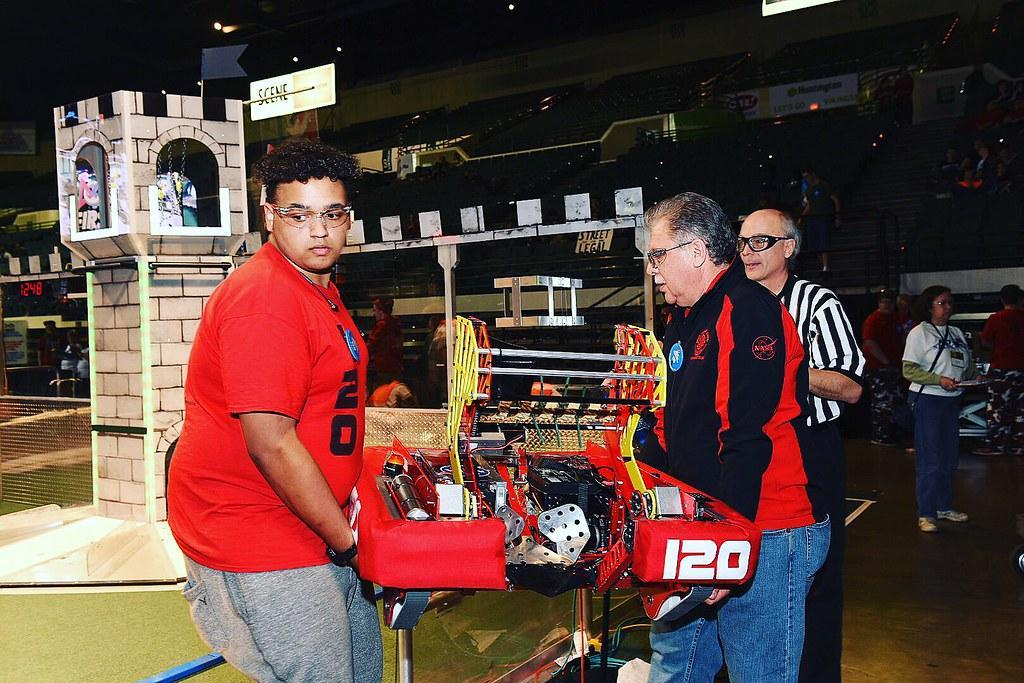robot: (347, 307, 763, 633)
